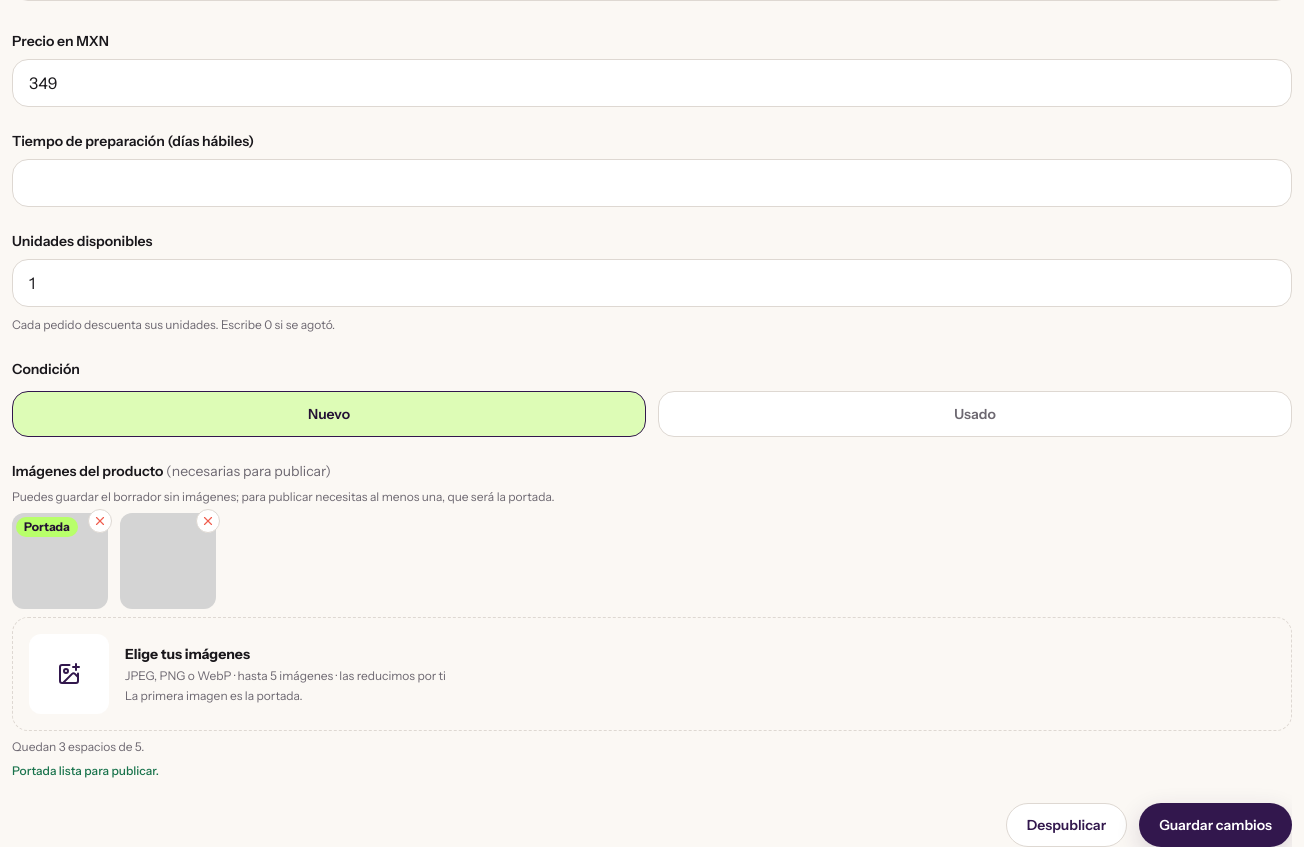
Scenario: ProductForm image removal › asks about one image at a time
(page scrolled)
Click the button named "Eliminar imagen 1" at coordinates (100, 521), box [88,509,112,533]
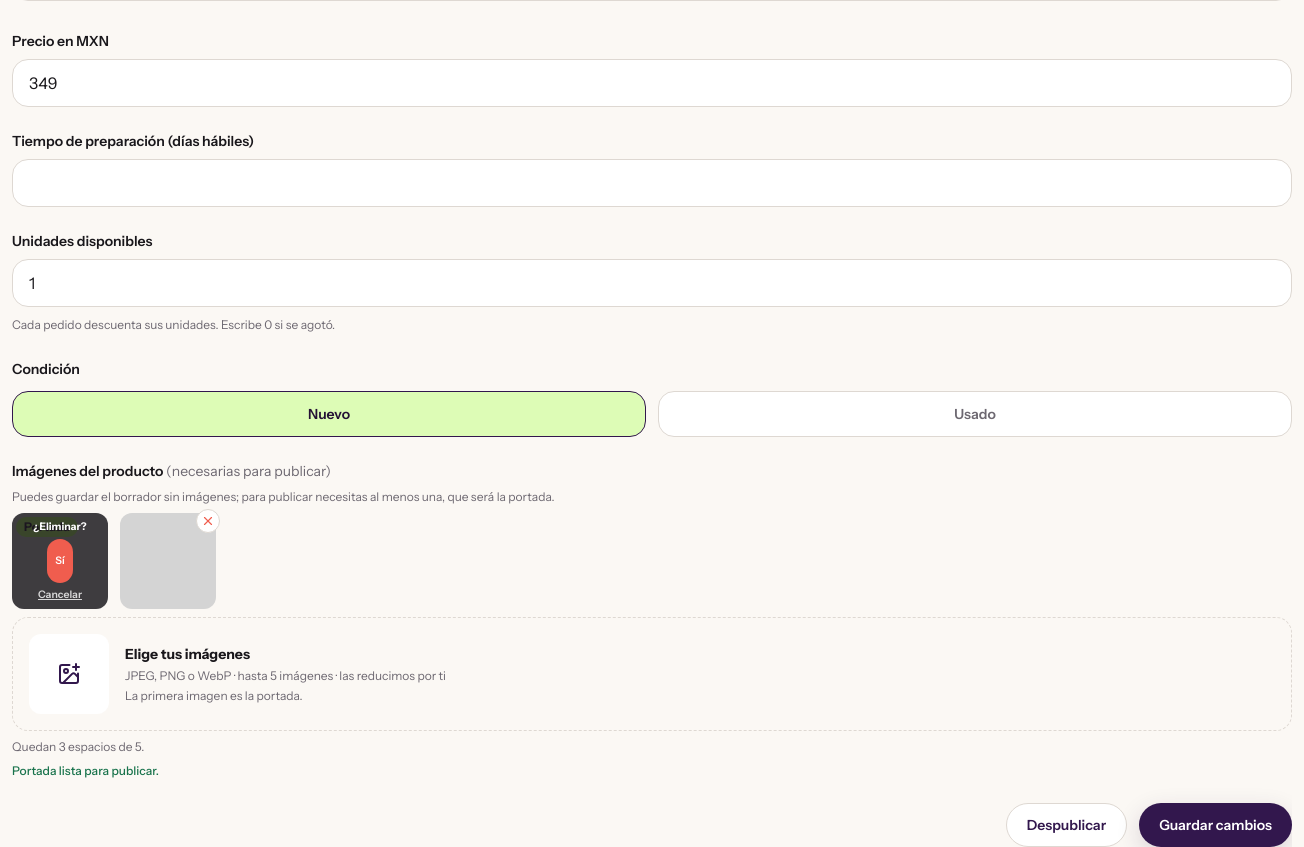
Click the button named "Eliminar imagen 2" at coordinates (208, 521), box [196,509,220,533]
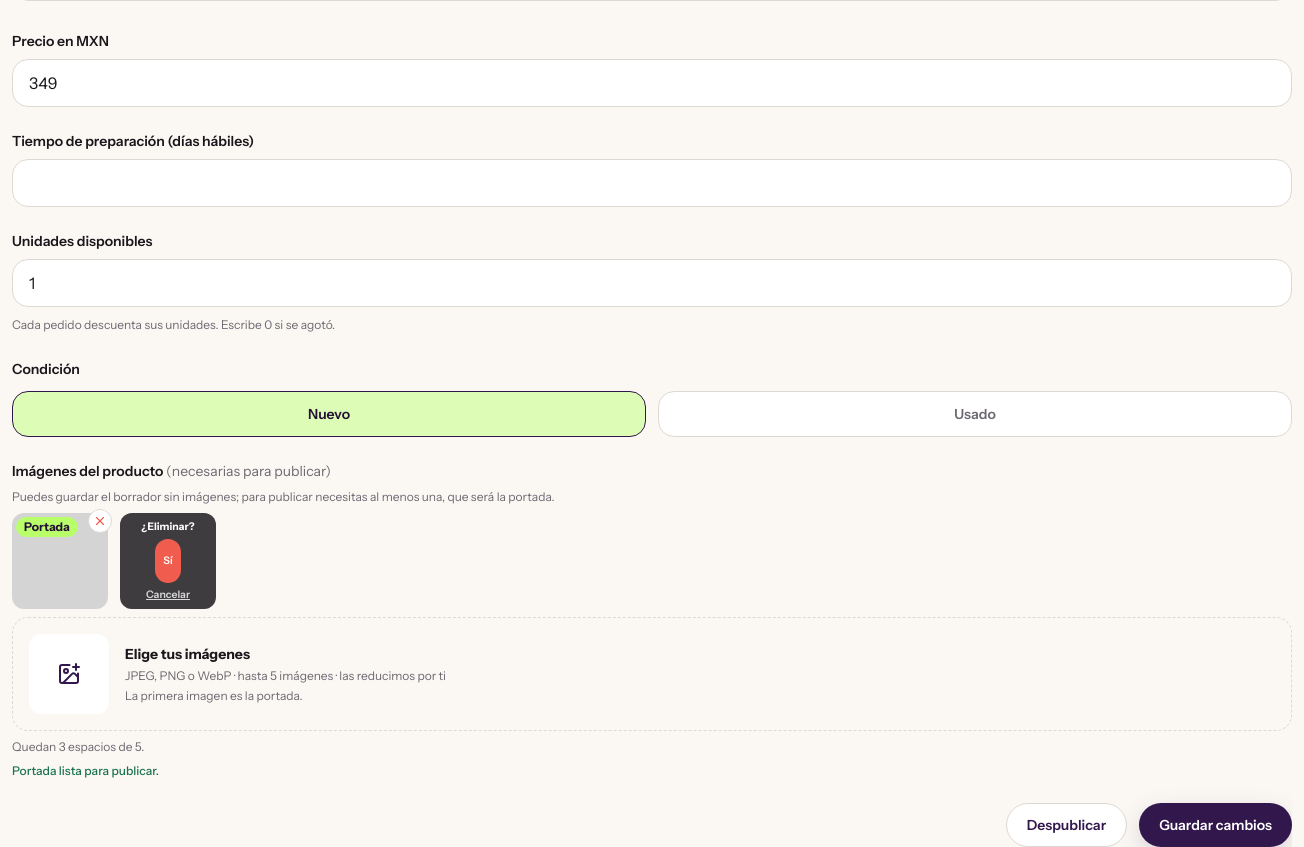
Now the text "¿Eliminar?" is shown once, box [141,519,195,535]
Now the button with aria-label "Sí, eliminar imagen 2" is shown, box [155,539,181,583]
